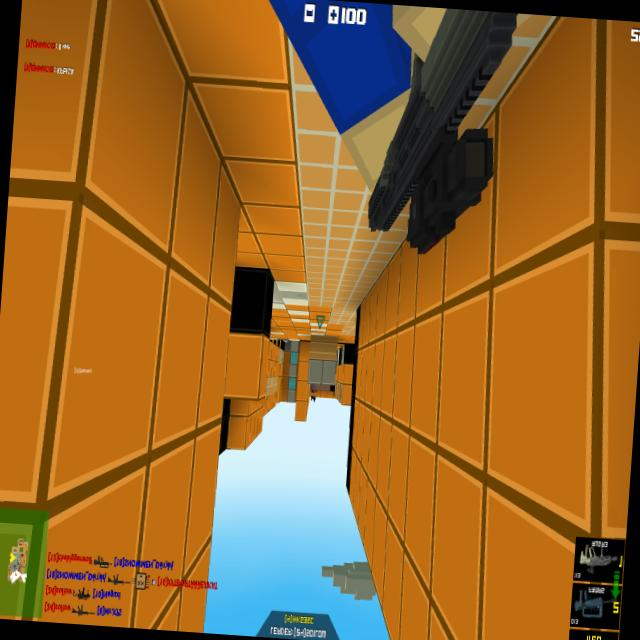enemy: (310, 389, 316, 402)
